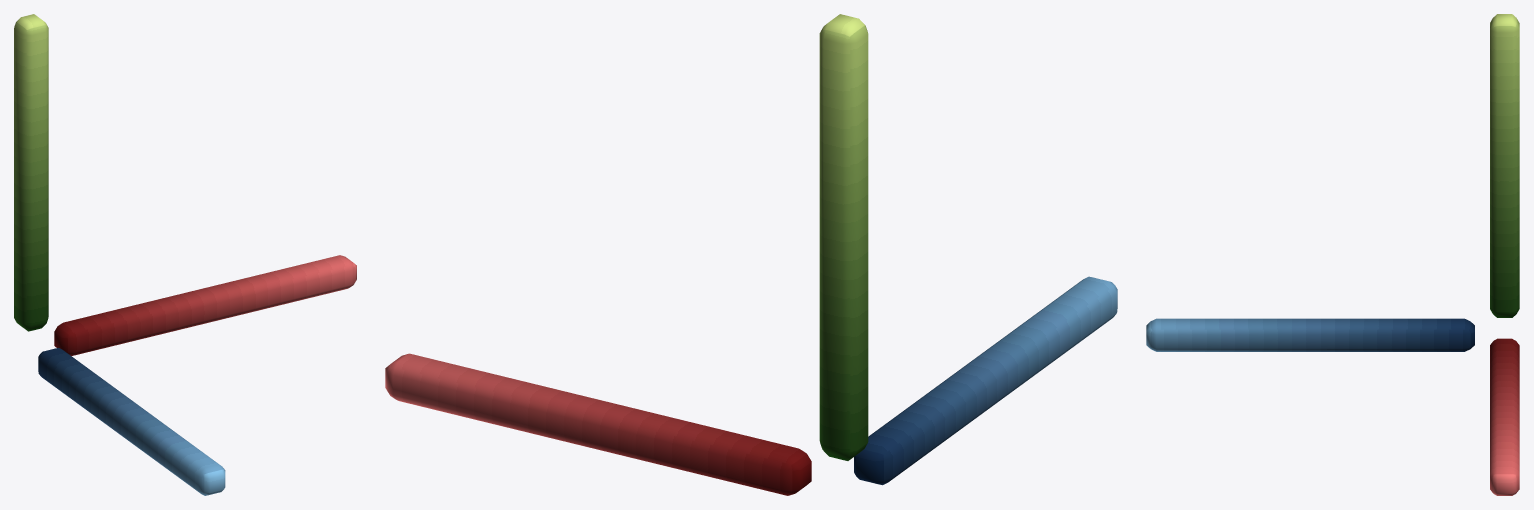
The model's file is axis.obj.
The picture shows the model from 3 angles, left to right: view 1: azimuth 30°, elevation 25°; view 2: azimuth 150°, elevation 25°; view 3: azimuth 270°, elevation 25°; orthographic projection. The views are drawn at different scales.
Parts seen in each view (by area): view 1: Cube; view 2: Cube; view 3: Cube.
Boxes of the visible parts, x1=… form: Cube: x1=14, y1=14, x2=356, y2=495; Cube: x1=385, y1=14, x2=1117, y2=495; Cube: x1=1146, y1=14, x2=1519, y2=495.
Size of the model in its own units: 32 by 31.36 by 32.
1 material, 1 textured.
